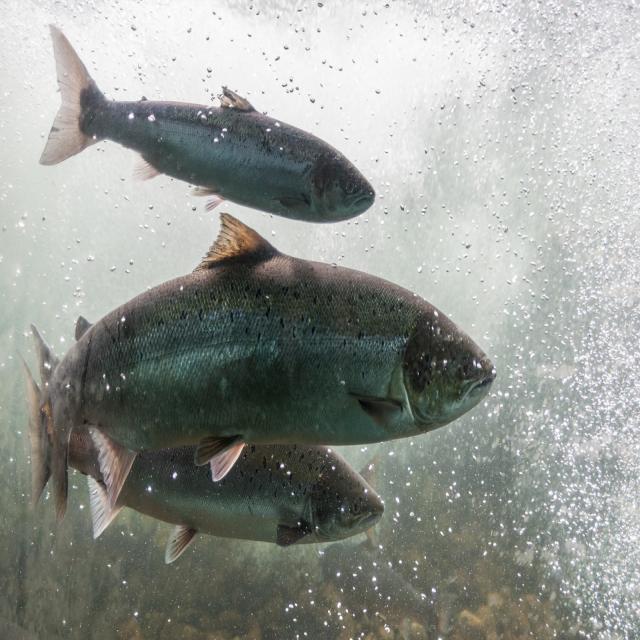salmon: (37, 202, 506, 458), (41, 13, 391, 242), (41, 423, 407, 558)
